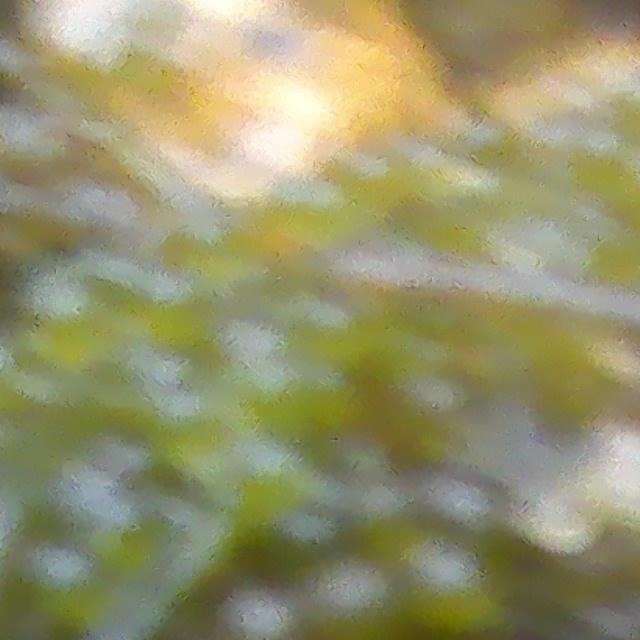SeaGrape: (316, 558, 399, 637), (27, 541, 92, 598)
